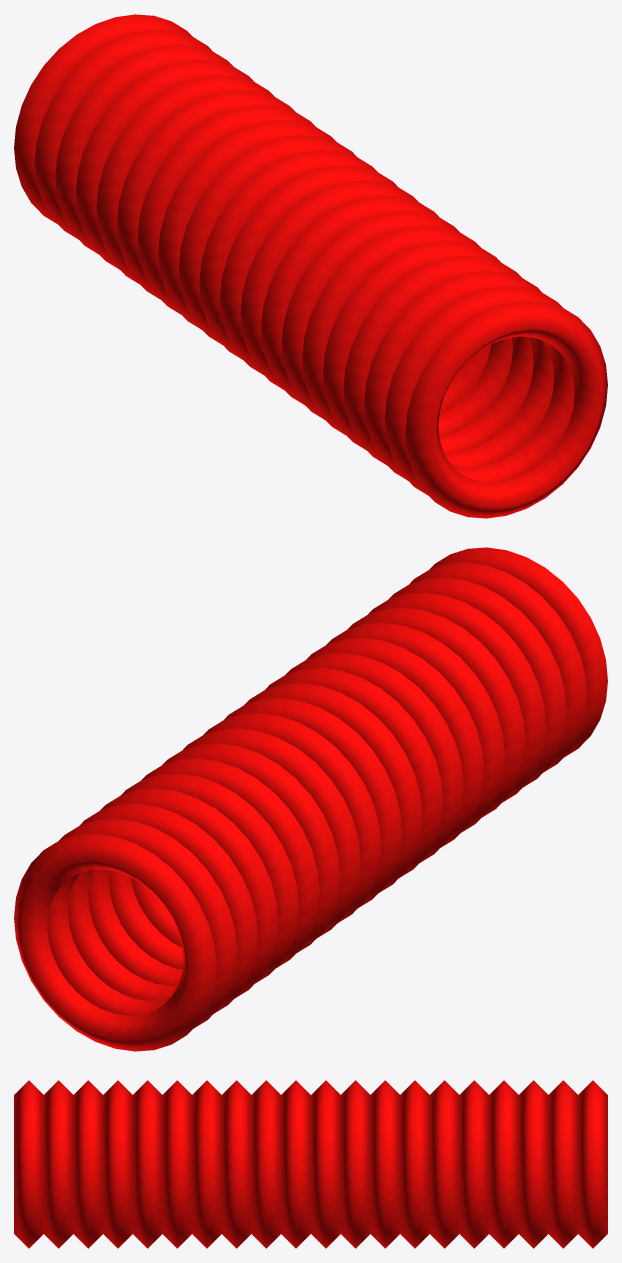
File: end divider.obj
The picture shows the model from 3 angles, top to bottom: view 1: azimuth 30°, elevation 25°; view 2: azimuth 150°, elevation 25°; view 3: azimuth 270°, elevation 25°; orthographic projection. The views are drawn at different scales.
Visible parts, largest first — view 1: Cylinder; view 2: Cylinder; view 3: Cylinder.
Boxes of the visible parts, bbox=[...] form: Cylinder: bbox=[14, 14, 607, 518]; Cylinder: bbox=[14, 547, 607, 1051]; Cylinder: bbox=[14, 1080, 607, 1248].
Size of the model in its own units: 2.28 by 2.28 by 8.02.
Materials: 1 (1 with a texture image).
